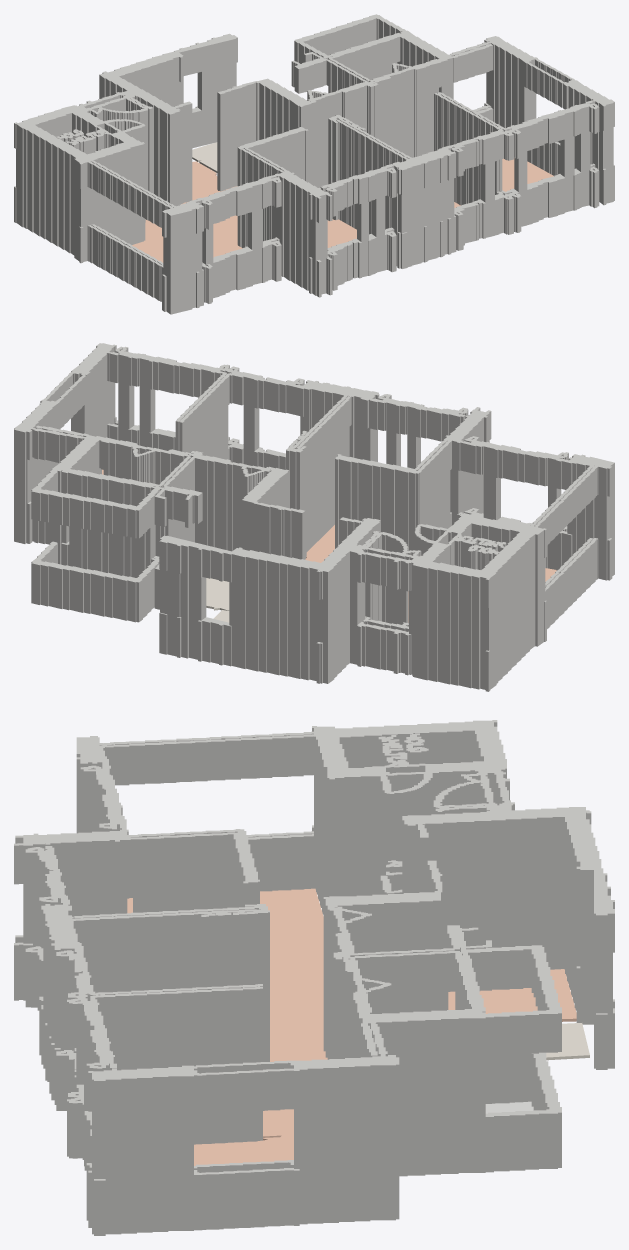
3 views of the same model, one above another, from view 1: azimuth 30°, elevation 25°; view 2: azimuth 150°, elevation 25°; view 3: azimuth 270°, elevation 25° (orthographic). The views are drawn at different scales.
Visible parts, largest first — view 1: walls, room:kitchen:0, room:other:2; view 2: walls, room:other:2, room:kitchen:0; view 3: walls, room:kitchen:0, room:other:2.
Boxes of the visible parts, x1=… form: walls: x1=14, y1=14, x2=614, y2=314; room:kitchen:0: x1=132, y1=158, x2=553, y2=262; room:other:2: x1=192, y1=142, x2=217, y2=172; walls: x1=14, y1=343, x2=614, y2=691; room:other:2: x1=206, y1=578, x2=229, y2=622; room:kitchen:0: x1=102, y1=469, x2=556, y2=622; walls: x1=14, y1=720, x2=614, y2=1235; room:kitchen:0: x1=127, y1=888, x2=576, y2=1165; room:other:2: x1=546, y1=1023, x2=589, y2=1060.
Bounding box in the file's own units: 13.99 × 2.8 × 9.85.
